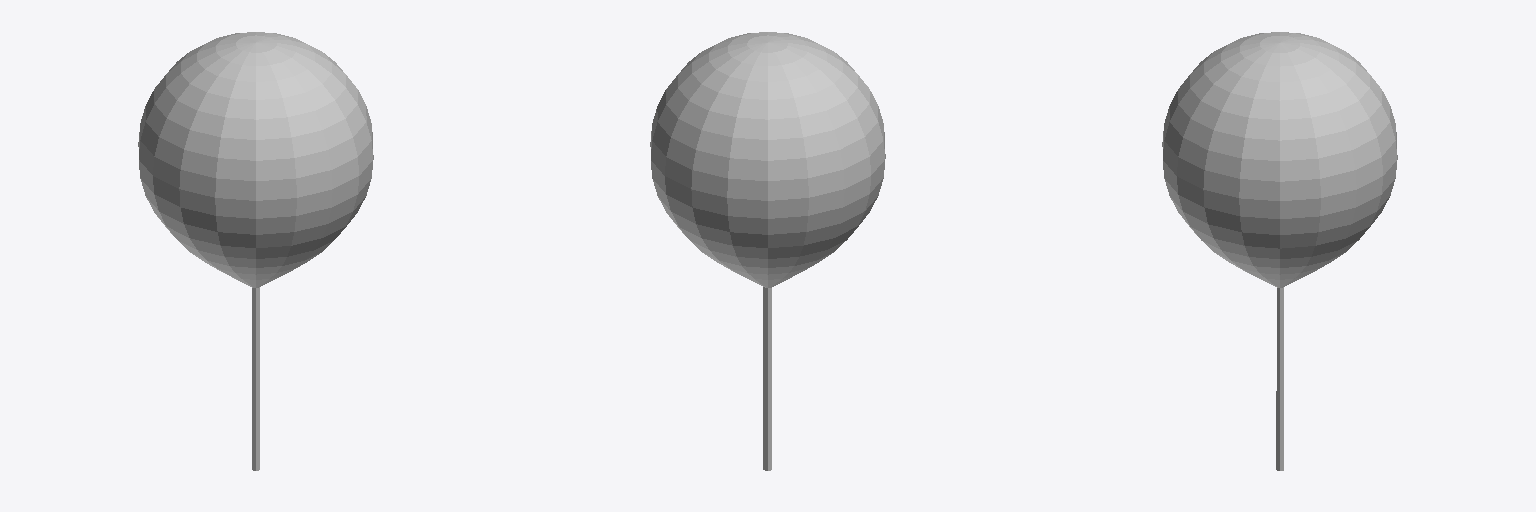
File: globo.obj
3 renders of one model, left to right at view 1: azimuth 30°, elevation 25°; view 2: azimuth 150°, elevation 25°; view 3: azimuth 270°, elevation 25°, orthographic.
Parts seen in each view (by area): view 1: BalloonBoy.012; view 2: BalloonBoy.012; view 3: BalloonBoy.012.
Part boxes in pixels (left/top/right/bottom): BalloonBoy.012: left=138, top=32, right=373, bottom=470; BalloonBoy.012: left=650, top=32, right=885, bottom=470; BalloonBoy.012: left=1162, top=32, right=1397, bottom=470.
Bounding box in the file's own units: 21.8 × 43.03 × 21.47.